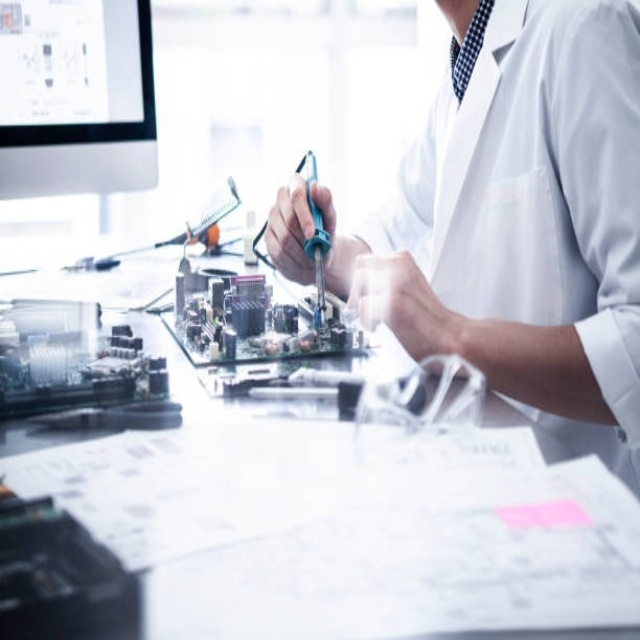Sin_guantes: (347, 248, 460, 366), (264, 172, 342, 289)
